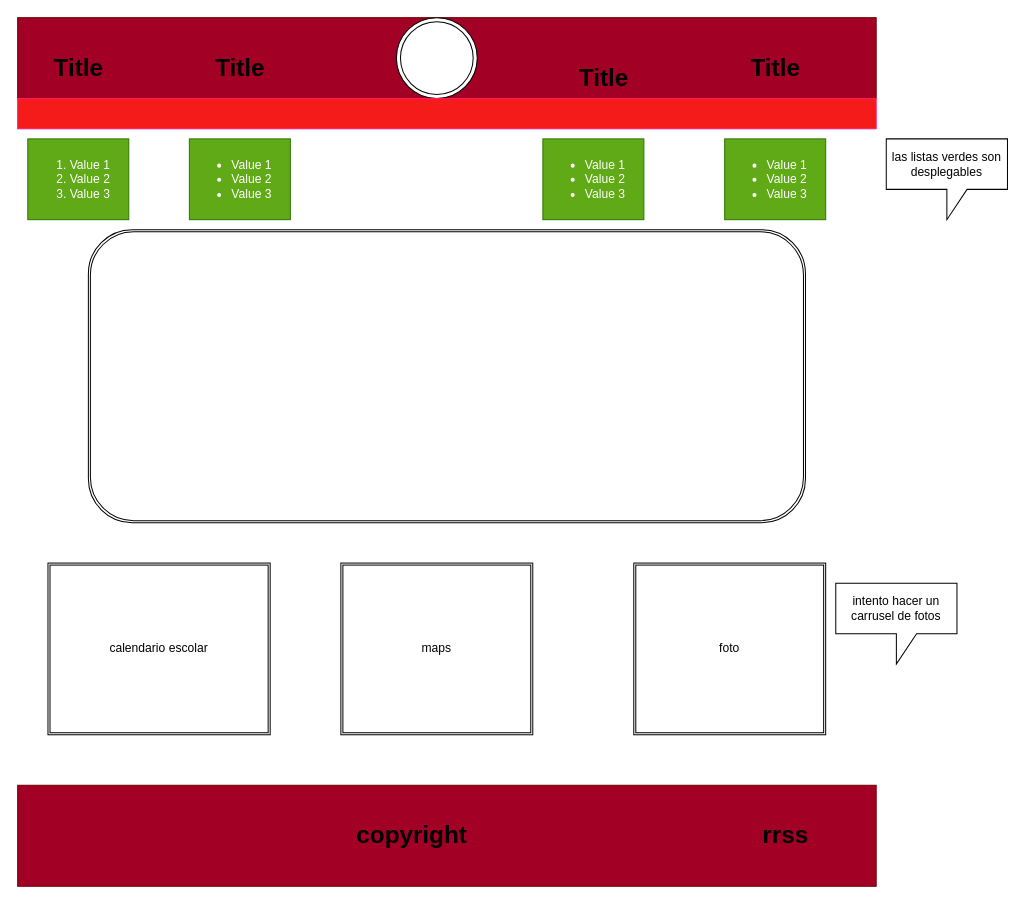
Image size: 1025x904. Some labels were removed from this diagram. The box of each missing label's shape, as (x1, y1, x2, y2) in pixels:
LOGO: (395, 17, 477, 98)
noticia navideña: (87, 229, 805, 523)
